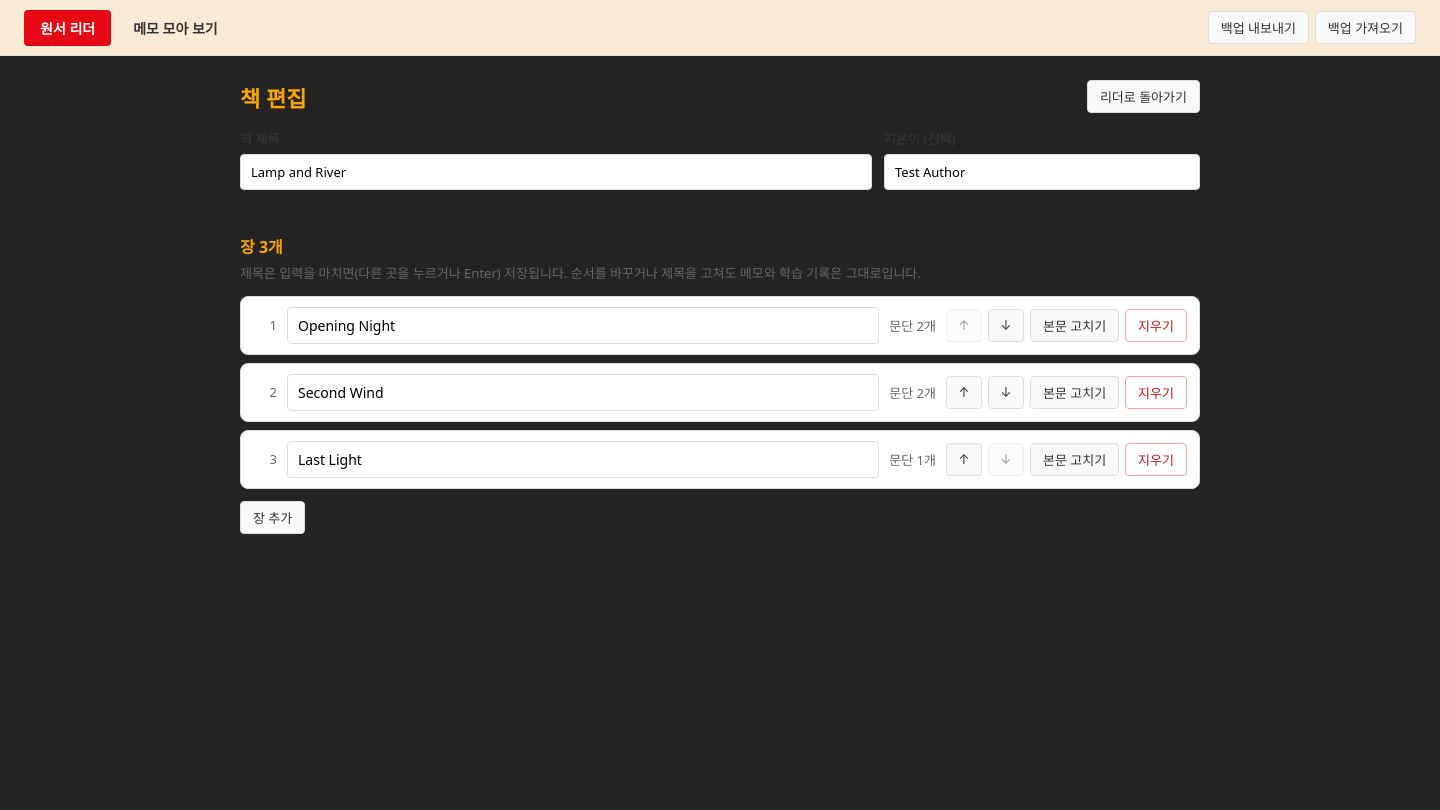
book-edit 4.1 책 편집 화면 › 4.7-3 책 편집 화면의 저장이 unavailable 오류로 실패하면 그 종류의 안내가 보이고 화면이 저장소와 같다
This screenshot has width=1440, height=810.
Click the button named "「Second Wind」 위로" at (964, 392), box [946, 376, 982, 408]
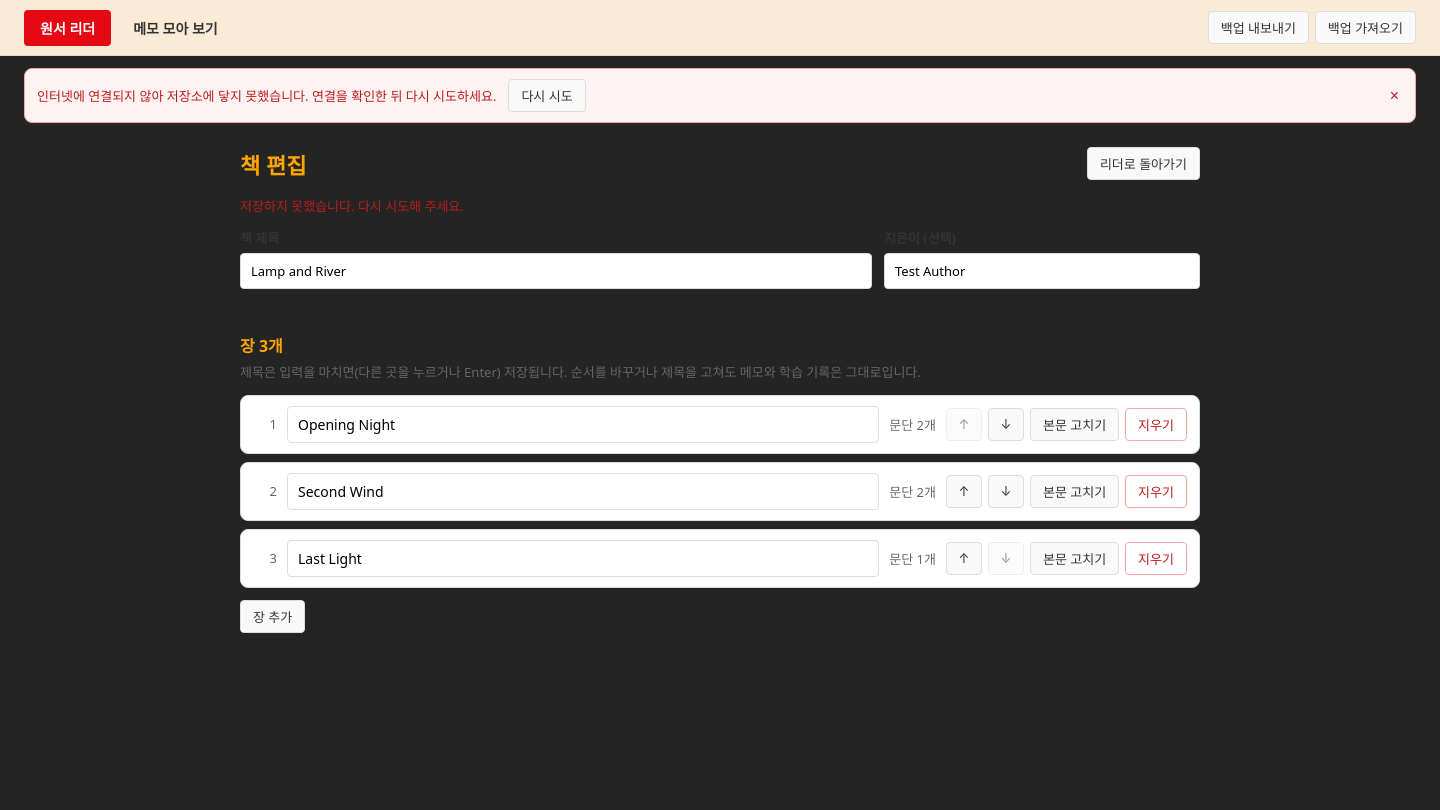
Expected: the text "인터넷에 연결되지 않아 저장소에 닿지 못했습니다. 연결을 확인한 뒤 다시 시도하세요." is shown, [37, 86, 496, 105]
Expected: the text "저장하지 못했습니다. 다시 시도해 주세요." is shown, [240, 197, 464, 215]
